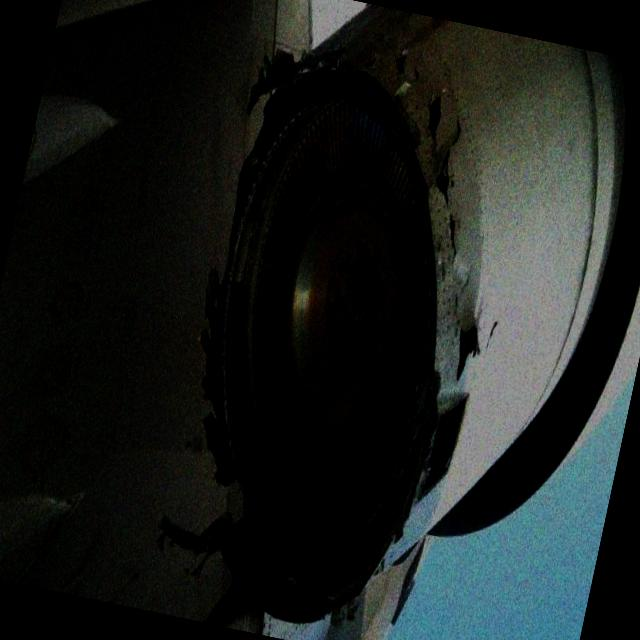crack: (332, 41, 542, 385)
